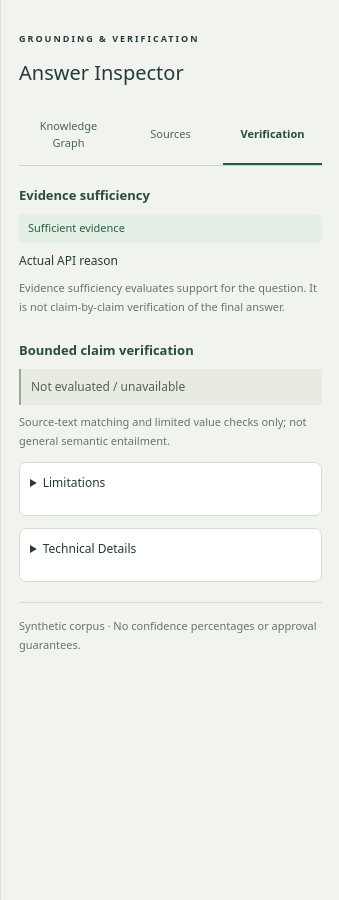
Scenario: does not infer graph edges from text, hybrid reasons or multi-node paths
The image size is (339, 900).
Step 1. Click the tab "Knowledge Graph" → x=68, y=136, box [19,106,118,165]
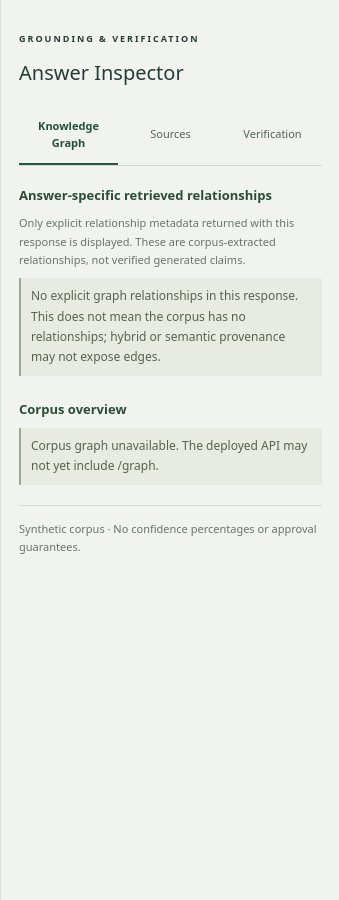
Now the text "No explicit graph relationships" is shown, box [31,287,298,365]
